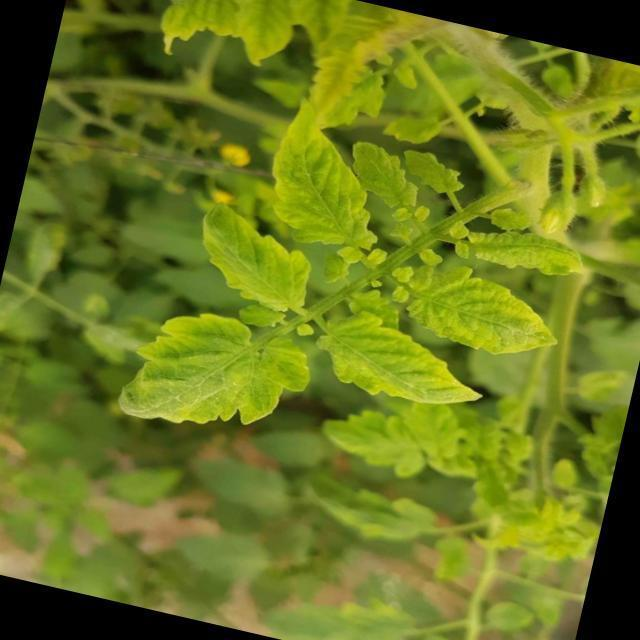Yellow Curl Virus: (106, 295, 316, 459), (250, 87, 400, 263), (298, 305, 500, 422), (390, 256, 577, 372), (174, 201, 324, 323), (464, 215, 611, 298), (336, 137, 436, 223), (220, 0, 309, 79), (140, 0, 236, 64), (401, 138, 479, 206)
